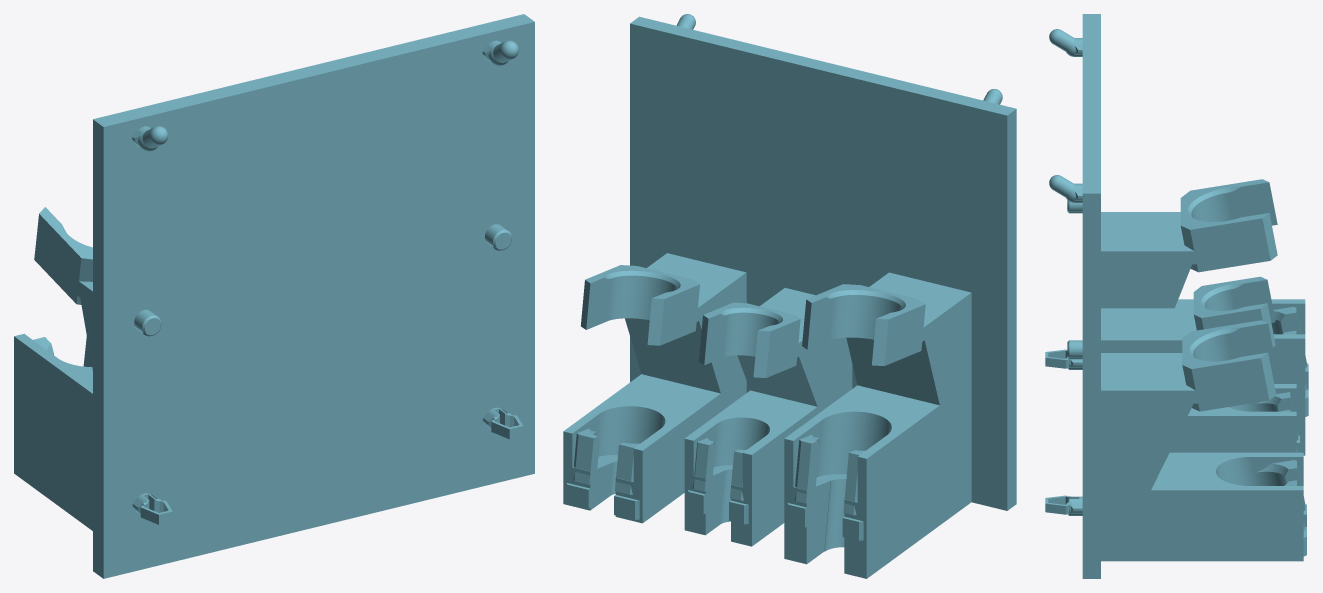
File: part-barrels__current-mounts-v1__fit-pf02c9-hoop5__installed.glb
3 renders of one model, left to right at view 1: azimuth 30°, elevation 25°; view 2: azimuth 150°, elevation 25°; view 3: azimuth 270°, elevation 25°, orthographic. The views are drawn at different scales.
Parts seen in each view (by area): view 1: installed.stl; view 2: installed.stl; view 3: installed.stl.
Boxes of the visible parts, x1,y1,x2,y2 form: installed.stl: (14,14,534,578); installed.stl: (563,14,1016,578); installed.stl: (1045,14,1308,578).
Bounding box in the file's own units: 0.125 × 0.1254 × 0.0774.
